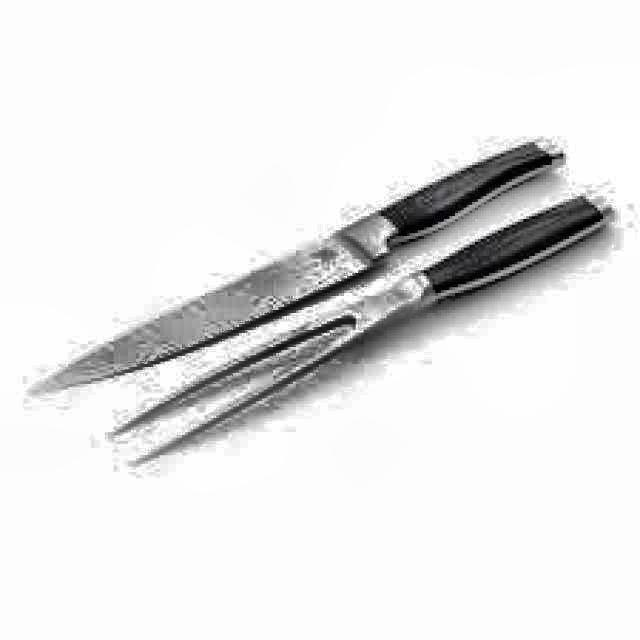knife: (114, 193, 613, 461), (34, 140, 565, 389)
